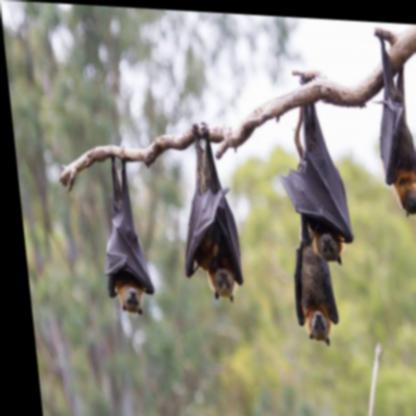Bat: (271, 64, 354, 265), (166, 116, 241, 303), (92, 149, 151, 319), (368, 31, 415, 216), (279, 220, 335, 346)
